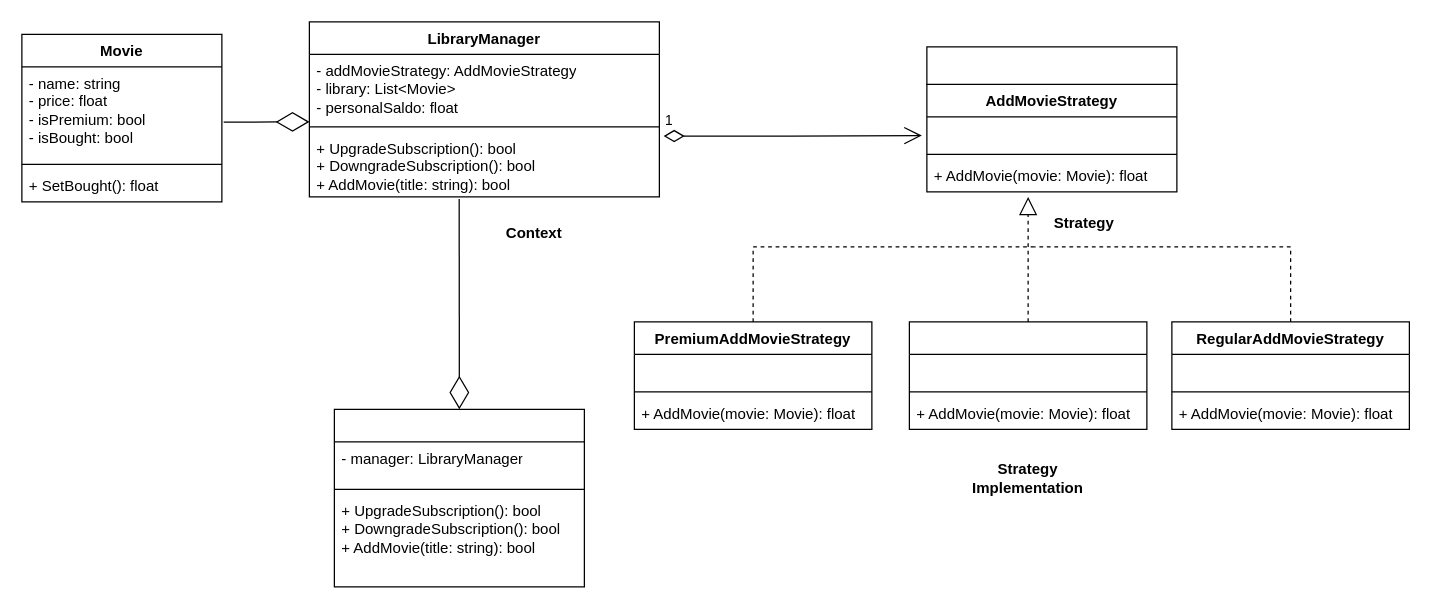
This 1431x613 diagram has some shape labels left out. The shapes that lost their labels are listed below. From the top down, each one's box as (x1, y1, x2, y2) in pixels, then its label:
(926, 46, 1177, 84): «interface»
(908, 321, 1147, 429): UnlimittedAddMovieStrategy
(333, 408, 584, 587): MovieRentalApp
